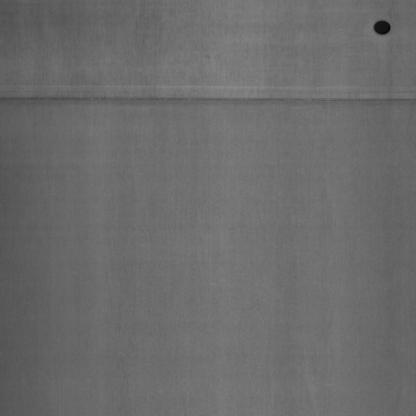punching_hole: (369, 17, 395, 43)
welding_line: (0, 84, 414, 112)
